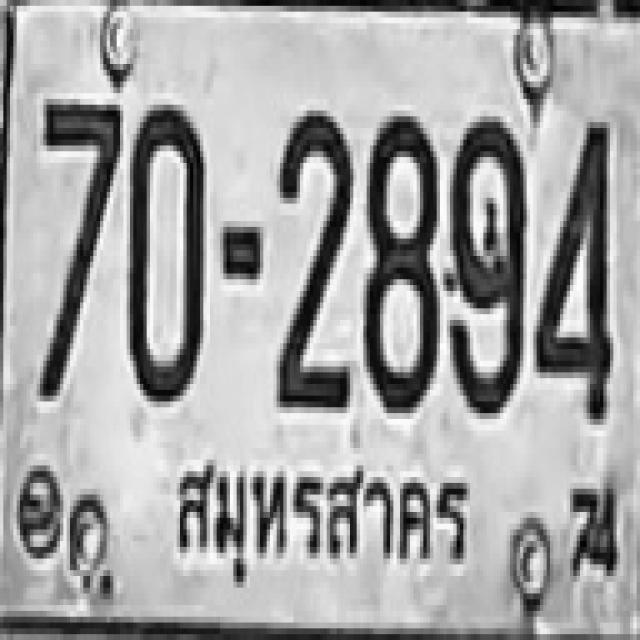0: (127, 96, 203, 399)
2: (275, 105, 352, 407)
4: (535, 113, 612, 422)
7: (37, 93, 120, 396)
8: (360, 111, 437, 407)
9: (447, 116, 523, 413)
SamutSakhon: (165, 439, 478, 588)
